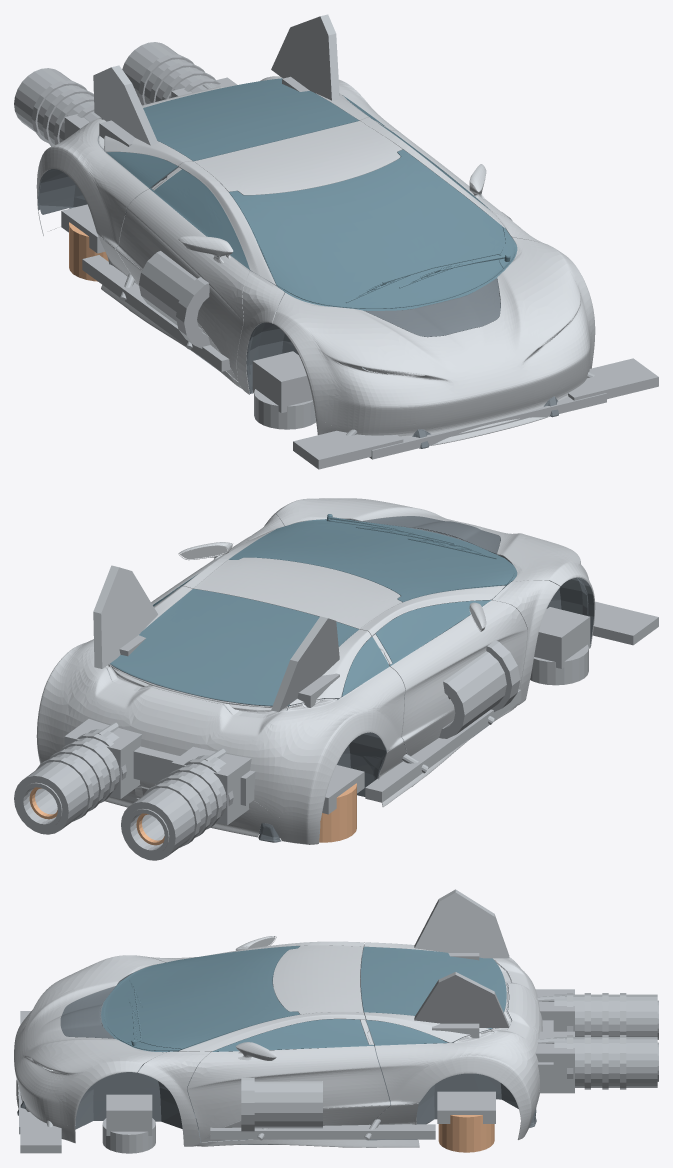
File: preview_aero.glb
The picture shows the model from 3 angles, top to bottom: view 1: azimuth 30°, elevation 25°; view 2: azimuth 150°, elevation 25°; view 3: azimuth 270°, elevation 25°; orthographic projection. The views are drawn at different scales.
Visible parts, largest first — view 1: DONOR_BodyHood, DONOR_BodyWindshield, DONOR_BodyRearwindow, DONOR_BodyRoofPanel, DONOR_BodyDoorRColor1, DONOR_BodyRearPanelsColor1, DONOR_BodyPillars, INSTALLED_rear_fins_1_FIN_1, DONOR_BodyHoodTopgrill, DONOR_BodyDoorRWindow, INSTALLED_rear_fins_1_FIN_-1, DONOR_BodyUnderside (+16 smaller); view 2: DONOR_BodyRearPanelsColor1, DONOR_BodyRearwindow, DONOR_BodyWindshield, DONOR_BodyRoofPanel, DONOR_BodyDoorRColor1, DONOR_BodyHood, DONOR_BodyPillars, INSTALLED_rear_engine_MAIN_1_HOLLOW_BELL, INSTALLED_rear_engine_MAIN_-1_HOLLOW_BELL, INSTALLED_rear_fins_1_FIN_1, DONOR_BodyPanelsColor2, INSTALLED_side_intakes_1_SIDE_INTAKE_BORE_-1 (+27 smaller); view 3: DONOR_BodyWindshield, DONOR_BodyHood, DONOR_BodyRearPanelsColor1, DONOR_BodyDoorLColor1, DONOR_BodyRearwindow, DONOR_BodyRoofPanel, DONOR_BodyUnderside, DONOR_BodyPillars, INSTALLED_rear_fins_1_FIN_-1, INSTALLED_rear_engine_MAIN_1_HOLLOW_BELL, INSTALLED_rear_fins_1_FIN_1, INSTALLED_side_intakes_1_SIDE_INTAKE_BORE_1 (+18 smaller).
Boxes of the visible parts, left/top/right/bottom form: DONOR_BodyHood: left=272, top=237, right=595, bottom=437; DONOR_BodyWindshield: left=229, top=149, right=504, bottom=308; DONOR_BodyRearwindow: left=143, top=78, right=359, bottom=161; DONOR_BodyRoofPanel: left=194, top=121, right=402, bottom=195; DONOR_BodyDoorRColor1: left=116, top=189, right=249, bottom=381; DONOR_BodyRearPanelsColor1: left=36, top=76, right=400, bottom=248; DONOR_BodyPillars: left=179, top=117, right=547, bottom=394; INSTALLED_rear_fins_1_FIN_1: left=271, top=14, right=339, bottom=100; DONOR_BodyHoodTopgrill: left=364, top=278, right=500, bottom=336; DONOR_BodyDoorRWindow: left=154, top=169, right=249, bottom=267; INSTALLED_rear_fins_1_FIN_-1: left=93, top=65, right=157, bottom=145; DONOR_BodyUnderside: left=39, top=169, right=298, bottom=393; DONOR_BodyRearPanelsColor1: left=36, top=586, right=405, bottom=823; DONOR_BodyRearwindow: left=110, top=589, right=358, bottom=705; DONOR_BodyWindshield: left=229, top=521, right=514, bottom=602; DONOR_BodyRoofPanel: left=193, top=557, right=402, bottom=629; DONOR_BodyDoorRColor1: left=390, top=600, right=527, bottom=740; DONOR_BodyHood: left=273, top=498, right=595, bottom=624; DONOR_BodyPillars: left=181, top=514, right=560, bottom=705; INSTALLED_rear_engine_MAIN_1_HOLLOW_BELL: left=14, top=729, right=119, bottom=834; INSTALLED_rear_engine_MAIN_-1_HOLLOW_BELL: left=121, top=755, right=226, bottom=860; INSTALLED_rear_fins_1_FIN_1: left=93, top=565, right=157, bottom=668; DONOR_BodyPanelsColor2: left=39, top=625, right=593, bottom=844; INSTALLED_side_intakes_1_SIDE_INTAKE_BORE_-1: left=439, top=651, right=506, bottom=738; DONOR_BodyWindshield: left=104, top=945, right=299, bottom=1049; DONOR_BodyHood: left=14, top=955, right=165, bottom=1127; DONOR_BodyRearPanelsColor1: left=364, top=942, right=542, bottom=1121; DONOR_BodyDoorLColor1: left=187, top=1046, right=390, bottom=1141; DONOR_BodyRearwindow: left=361, top=946, right=506, bottom=1029; DONOR_BodyRoofPanel: left=273, top=945, right=363, bottom=1014; DONOR_BodyUnderside: left=75, top=1070, right=536, bottom=1129; DONOR_BodyPillars: left=138, top=941, right=365, bottom=1146; INSTALLED_rear_fins_1_FIN_-1: left=414, top=889, right=509, bottom=958; INSTALLED_rear_engine_MAIN_1_HOLLOW_BELL: left=554, top=1037, right=657, bottom=1087; INSTALLED_rear_fins_1_FIN_1: left=414, top=972, right=509, bottom=1027; INSTALLED_side_intakes_1_SIDE_INTAKE_BORE_1: left=254, top=1081, right=322, bottom=1128.
Bounding box in the file's own units: 2.61 × 1.5 × 5.3.
